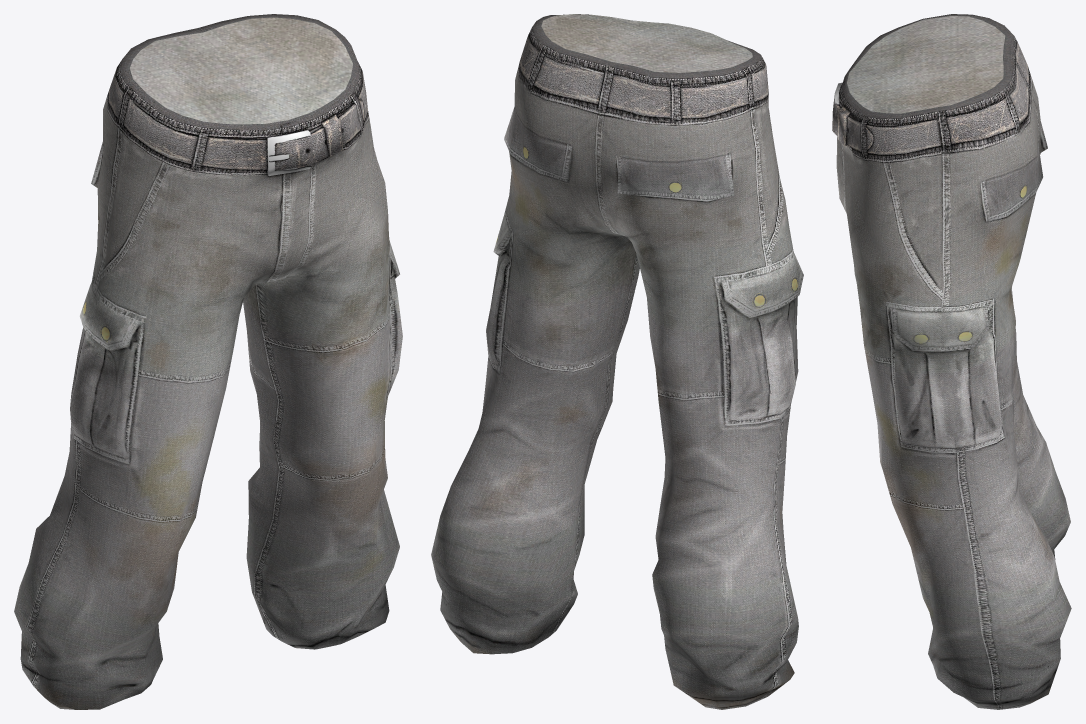
The model's file is SurvivorMale_Legs_Pants_CargoInBoots_LOD0.glb.
3 renders of one model, left to right at view 1: azimuth 30°, elevation 25°; view 2: azimuth 150°, elevation 25°; view 3: azimuth 270°, elevation 25°, orthographic. The views are drawn at different scales.
Parts seen in each view (by area): view 1: Hoodie; view 2: Hoodie; view 3: Hoodie.
Boxes of the visible parts, x1,y1,x2,y2 form: Hoodie: [14, 14, 402, 709]; Hoodie: [431, 14, 803, 709]; Hoodie: [832, 14, 1071, 709].
Size of the model in its own units: 0.5195 by 0.8765 by 0.3229.
1 material, 1 textured.
